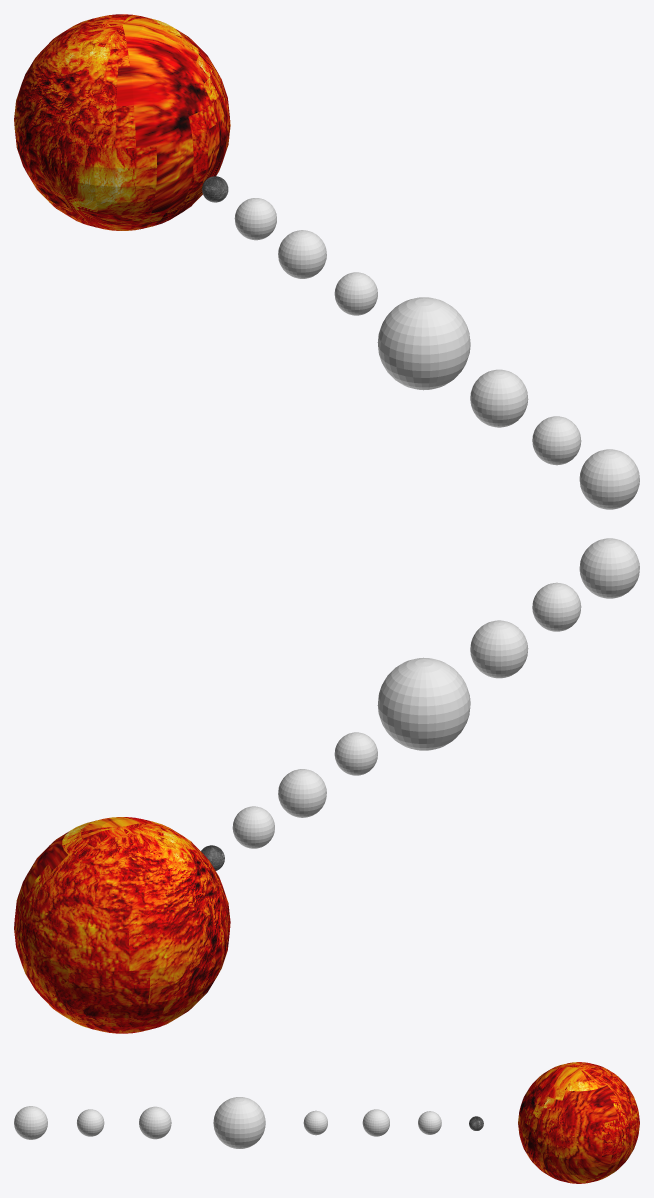
File: tatasurya.glb
3 views of the same model, one above another, from view 1: azimuth 30°, elevation 25°; view 2: azimuth 150°, elevation 25°; view 3: azimuth 270°, elevation 25° (orthographic). The views are drawn at different scales.
Visible parts, largest first — view 1: Sphere, Sphere.005, Sphere.008, Sphere.006, Sphere.007, Sphere.004, Sphere.003, Sphere.002; view 2: Sphere, Sphere.005, Sphere.008, Sphere.006, Sphere.007, Sphere.004, Sphere.003, Sphere.002; view 3: Sphere, Sphere.005, Sphere.008, Sphere.006, Sphere.007, Sphere.004, Sphere.003, Sphere.002.
Part boxes in pixels (x1,y1,x2,y2): Sphere: (14, 14, 230, 230); Sphere.005: (377, 297, 470, 390); Sphere.008: (579, 449, 639, 509); Sphere.006: (470, 369, 528, 427); Sphere.007: (532, 416, 581, 465); Sphere.004: (278, 230, 326, 278); Sphere.003: (334, 272, 377, 315); Sphere.002: (234, 198, 276, 240); Sphere: (14, 817, 230, 1033); Sphere.005: (377, 657, 470, 750); Sphere.008: (579, 538, 639, 598); Sphere.006: (470, 620, 528, 678); Sphere.007: (532, 582, 581, 631); Sphere.004: (278, 769, 326, 817); Sphere.003: (334, 732, 377, 775); Sphere.002: (232, 806, 274, 848); Sphere: (518, 1062, 639, 1183); Sphere.005: (213, 1097, 265, 1148); Sphere.008: (14, 1106, 47, 1139); Sphere.006: (139, 1106, 171, 1139); Sphere.007: (77, 1109, 104, 1136); Sphere.004: (362, 1109, 389, 1136); Sphere.003: (303, 1110, 327, 1135); Sphere.002: (418, 1111, 441, 1134).
Bounding box in the file's own units: 5.84 × 5.84 × 29.96.
Materials: 2 (2 with a texture image).
